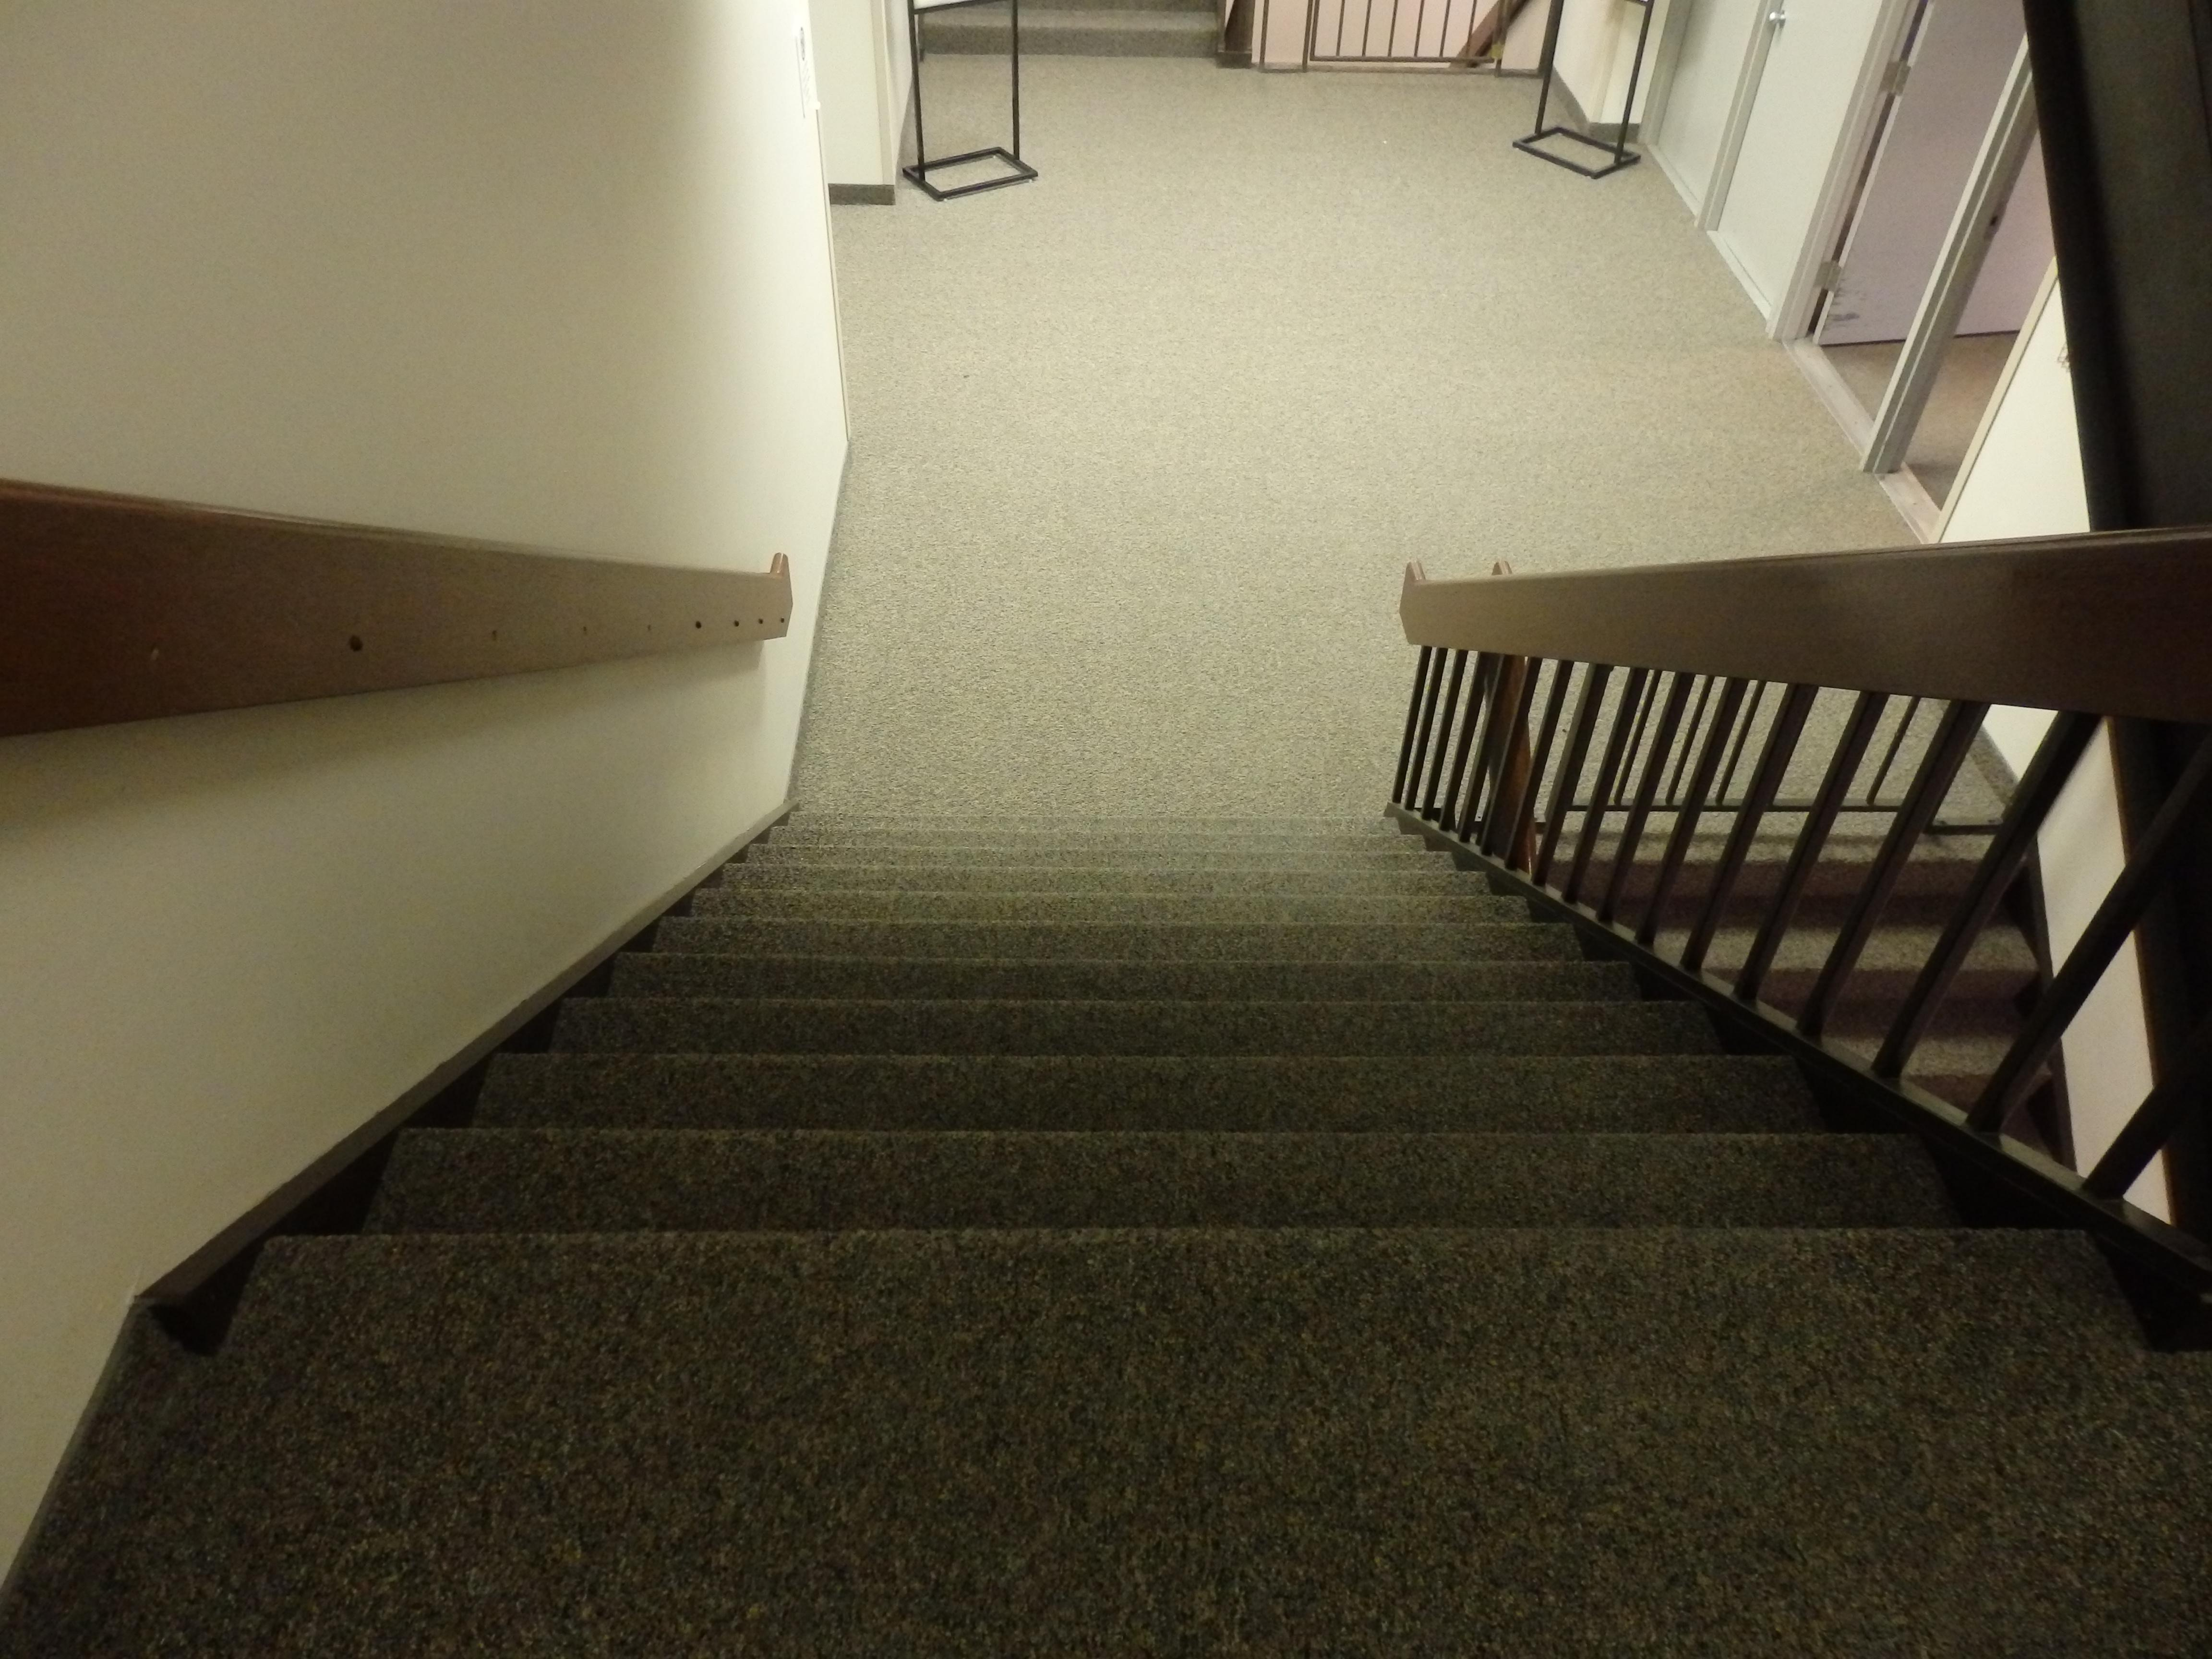stairs_down: (195, 775, 2008, 1276)
